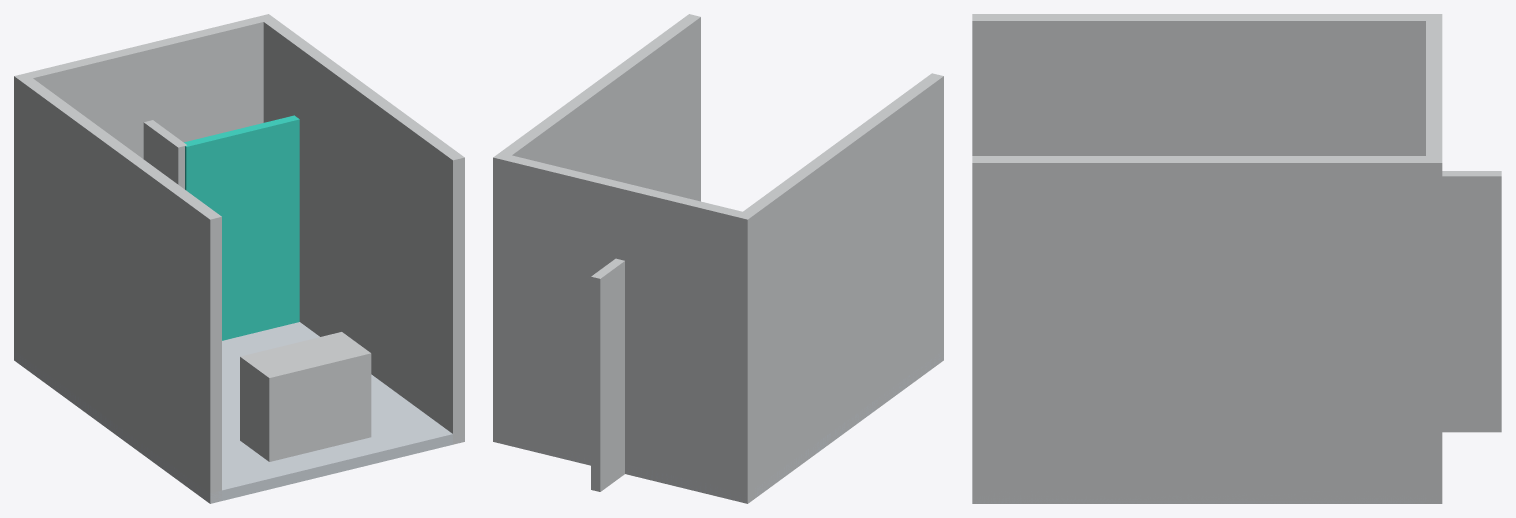
The picture shows the model from 3 angles, left to right: view 1: azimuth 30°, elevation 25°; view 2: azimuth 150°, elevation 25°; view 3: azimuth 270°, elevation 25°; orthographic projection. The views are drawn at different scales.
Visible parts, largest first — view 1: Exhibition Booth Concept; view 2: Exhibition Booth Concept; view 3: Exhibition Booth Concept.
Part boxes in pixels (x1,y1,x2,y2): Exhibition Booth Concept: (14, 14, 464, 503); Exhibition Booth Concept: (493, 14, 943, 503); Exhibition Booth Concept: (972, 14, 1501, 503).
Size of the model in its own units: 3 by 3.2 by 4.51.
